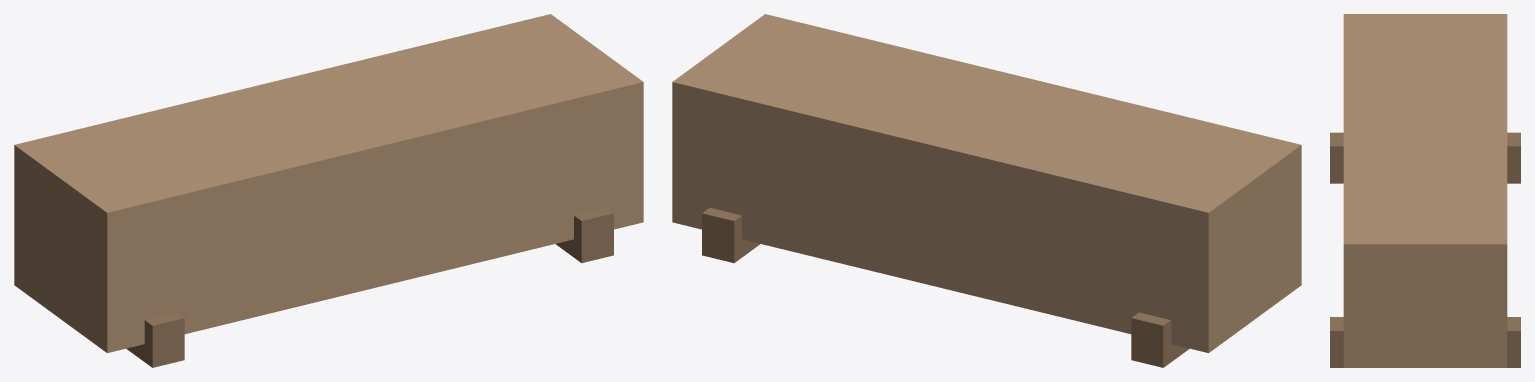
File: water_trough.glb
3 views of the same model, side by side, from view 1: azimuth 30°, elevation 25°; view 2: azimuth 150°, elevation 25°; view 3: azimuth 270°, elevation 25° (orthographic). The views are drawn at different scales.
Visible parts, largest first — view 1: water_trough; view 2: water_trough; view 3: water_trough.
Part boxes in pixels (x1,y1,x2,y2): water_trough: (14, 14, 643, 367); water_trough: (672, 14, 1301, 367); water_trough: (1330, 14, 1520, 367).
Bounding box in the file's own units: 2 × 0.565 × 0.7.
